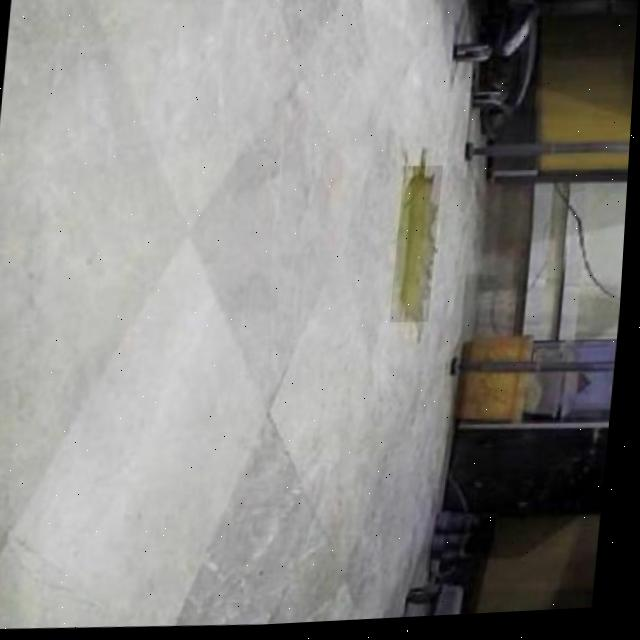spillage: (400, 170, 438, 324)
